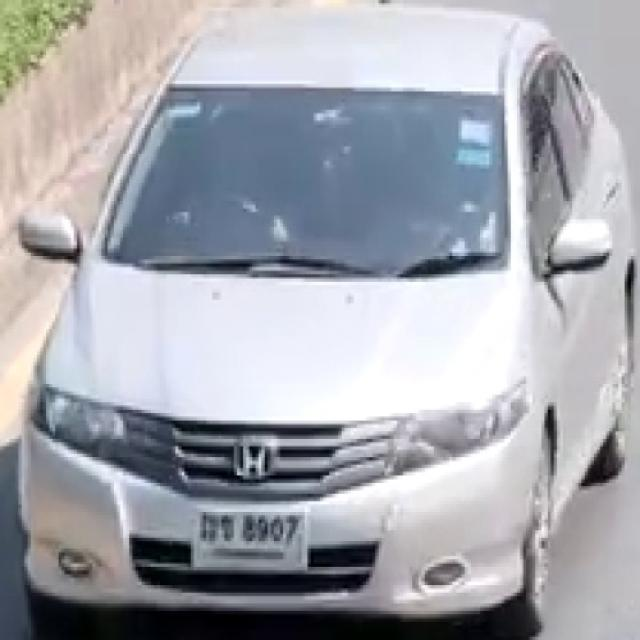plate: (195, 508, 306, 570)
